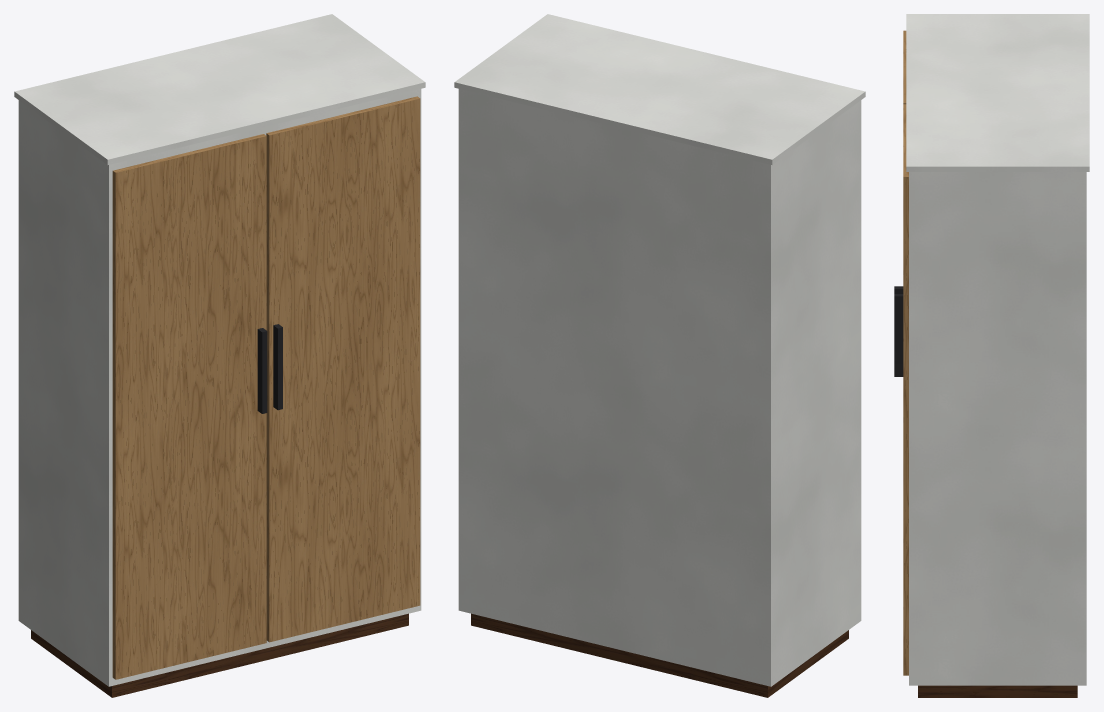
3 renders of one model, left to right at view 1: azimuth 30°, elevation 25°; view 2: azimuth 150°, elevation 25°; view 3: azimuth 270°, elevation 25°, orthographic.
Visible parts, largest first — view 1: Wardrobe_Game; view 2: Wardrobe_Game; view 3: Wardrobe_Game.
Boxes of the visible parts, x1,y1,x2,y2 form: Wardrobe_Game: (14,14,425,697); Wardrobe_Game: (454,14,865,697); Wardrobe_Game: (894,14,1089,697).
Bounding box in the file's own units: 1.22 × 2 × 0.66.
4 materials, 4 textured.
